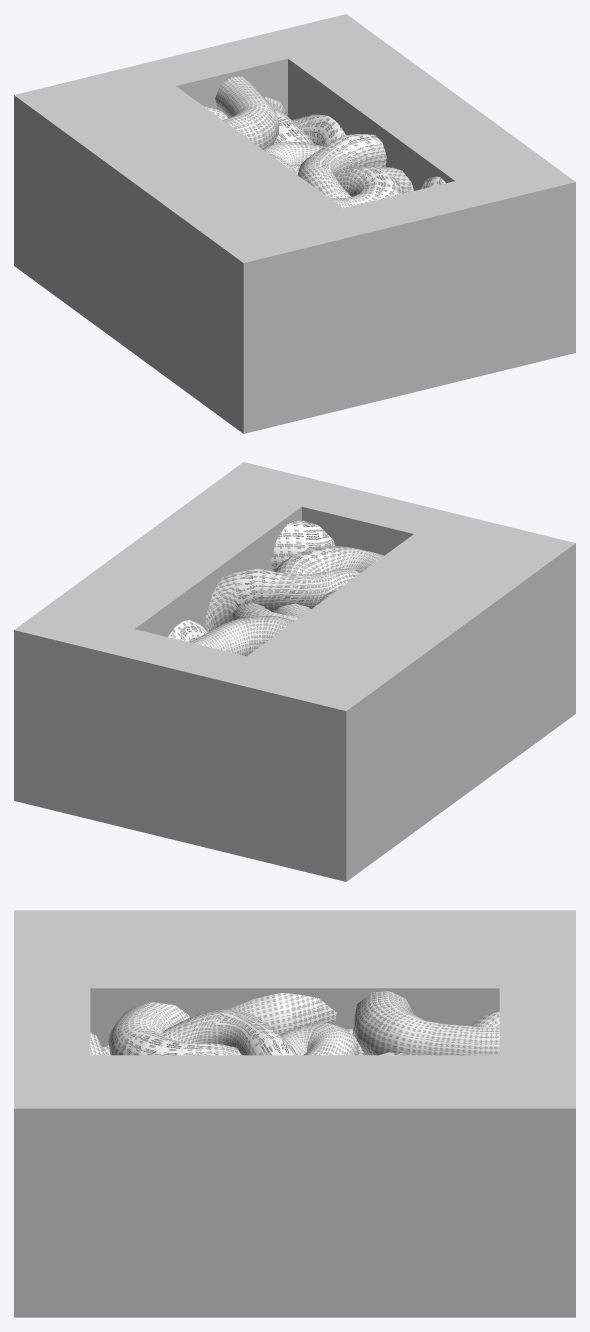
The model's file is asset.glb.
3 views of the same model, one above another, from view 1: azimuth 30°, elevation 25°; view 2: azimuth 150°, elevation 25°; view 3: azimuth 270°, elevation 25° (orthographic). The views are drawn at different scales.
Parts seen in each view (by area): view 1: pPlane10, group7_pPlane16; view 2: pPlane10, group7_pPlane16; view 3: pPlane10, group7_pPlane16.
Part boxes in pixels (<box>): pPlane10: <box>14,14,575,433</box>; group7_pPlane16: <box>202,76,445,208</box>; pPlane10: <box>14,462,575,881</box>; group7_pPlane16: <box>168,520,384,656</box>; pPlane10: <box>14,910,575,1317</box>; group7_pPlane16: <box>90,991,499,1055</box>.
Bounding box in the file's own units: 3.76 × 1.84 × 4.49.
Materials: 1 (1 with a texture image).
